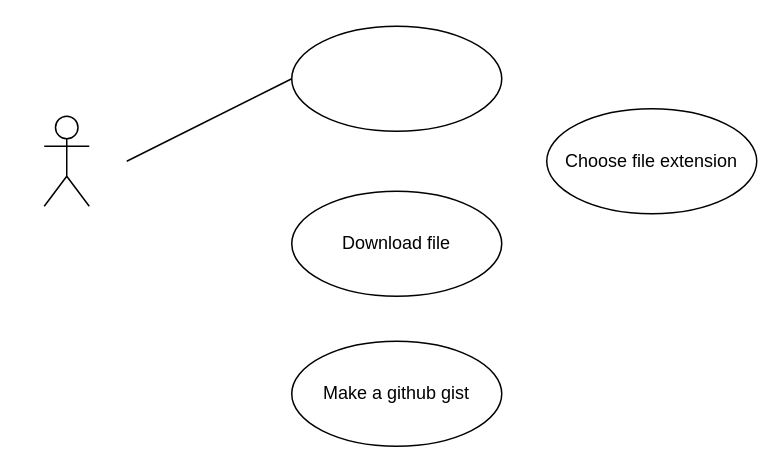
The diagram is 783 pixels wide and 473 high, and some of its shapes have lost their labels. The centre of each missing label's shape, as x and y in pixels:
Create file: (396,78)
Developer: (66,160)
